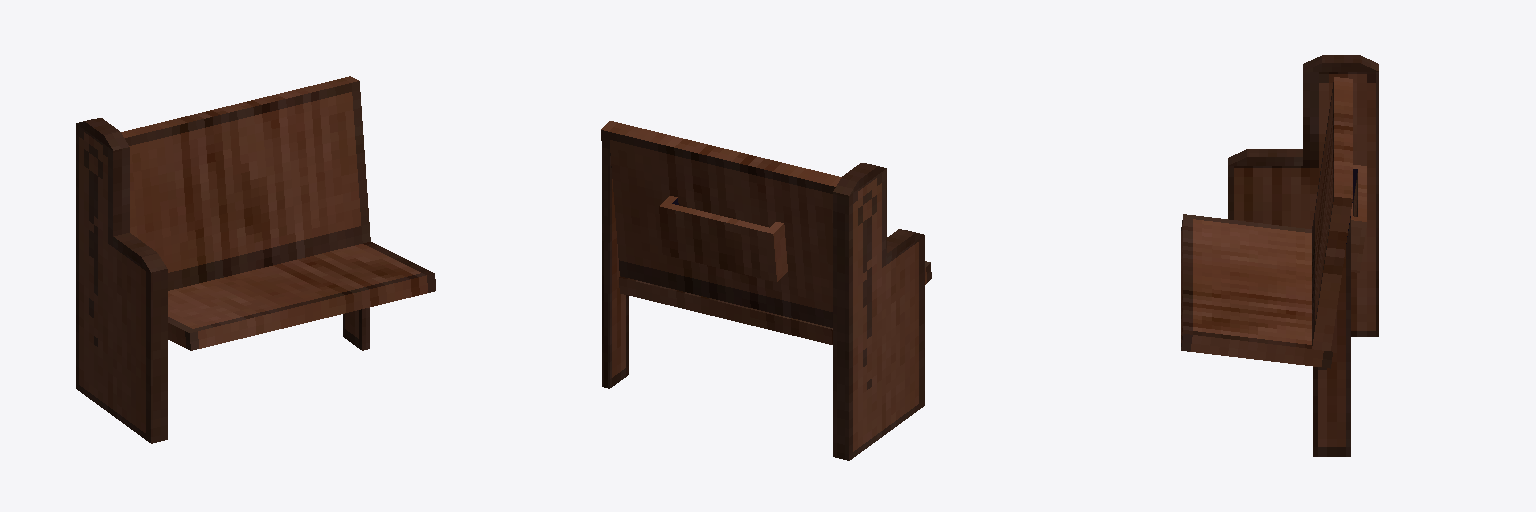
3 renders of one model, left to right at view 1: azimuth 30°, elevation 25°; view 2: azimuth 150°, elevation 25°; view 3: azimuth 270°, elevation 25°, orthographic.
Parts seen in each view (by area): view 1: cube; view 2: cube; view 3: cube.
Boxes of the visible parts, x1=… form: cube: x1=76, y1=76, x2=435, y2=443; cube: x1=601, y1=121, x2=931, y2=460; cube: x1=1181, y1=55, x2=1378, y2=456.
Bounding box in the file's own units: 1 × 1 × 0.6554.
Materials: 1 (1 with a texture image).